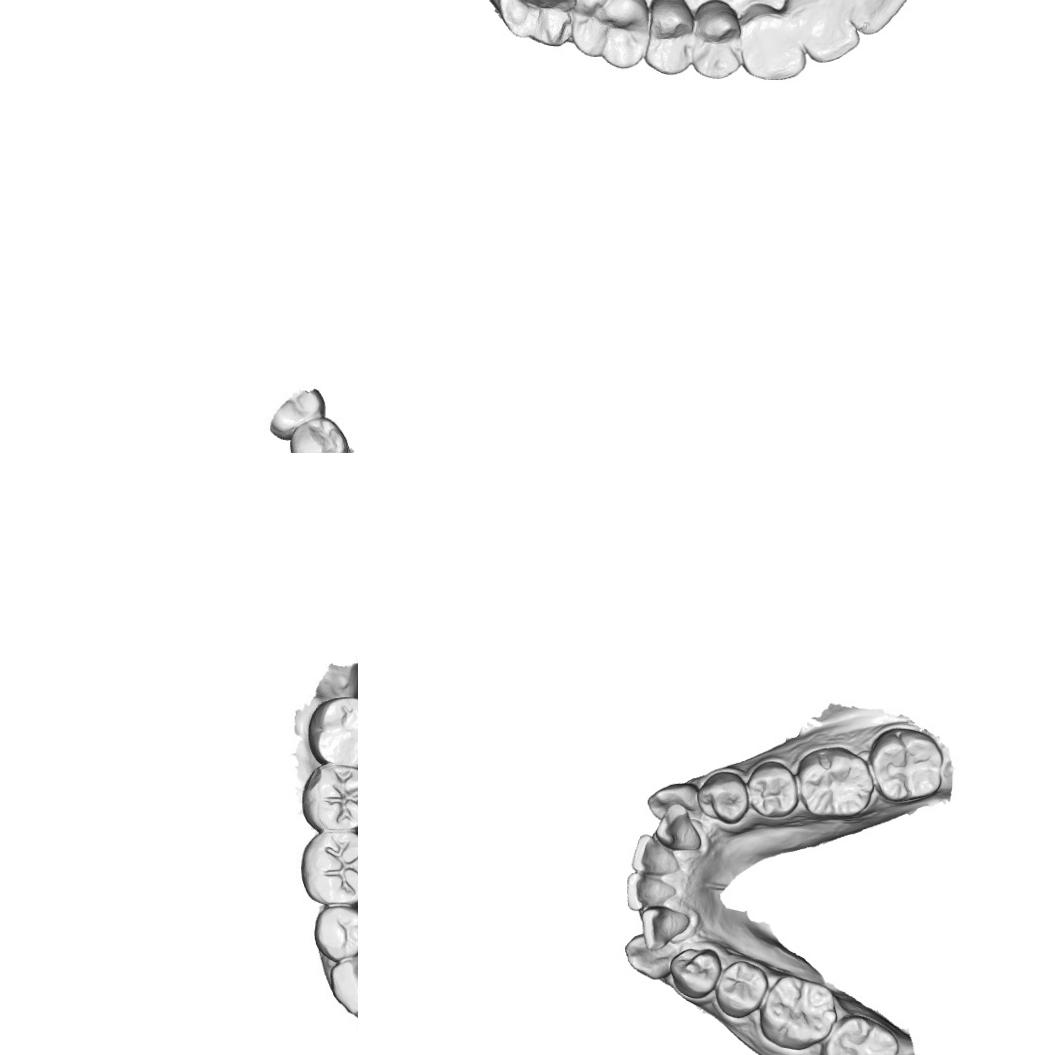canine: (742, 3, 807, 82), (622, 932, 681, 980), (645, 780, 704, 822), (326, 949, 358, 1012)
incisor: (794, 0, 863, 66), (832, 0, 909, 36), (652, 802, 704, 852), (638, 904, 690, 953), (623, 869, 678, 912), (630, 833, 682, 877)
molar: (758, 972, 838, 1052), (868, 725, 946, 806), (796, 743, 874, 821), (567, 0, 649, 68), (488, 0, 581, 49), (302, 825, 358, 901), (815, 1010, 900, 1055), (305, 761, 358, 828), (309, 696, 358, 766), (286, 410, 353, 453)
premolar: (641, 0, 695, 77), (694, 0, 741, 83), (714, 958, 770, 1020), (745, 758, 800, 820), (694, 769, 750, 826), (666, 946, 722, 1000), (319, 901, 358, 957)
